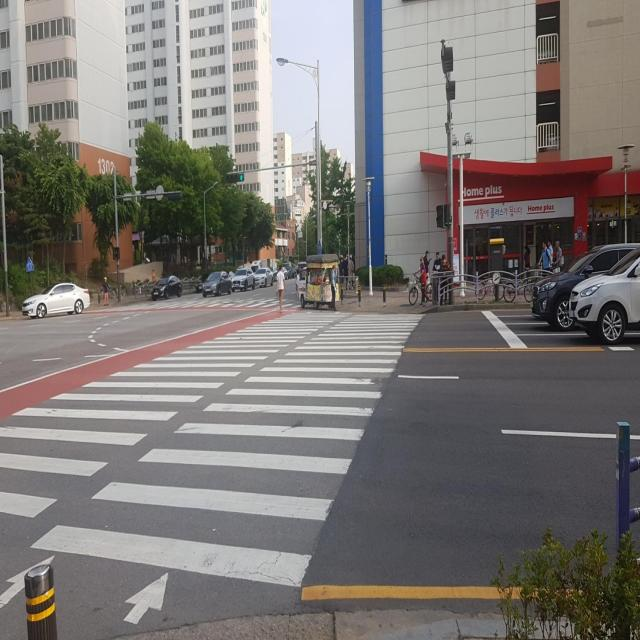횡단보도: (0, 312, 428, 629)
